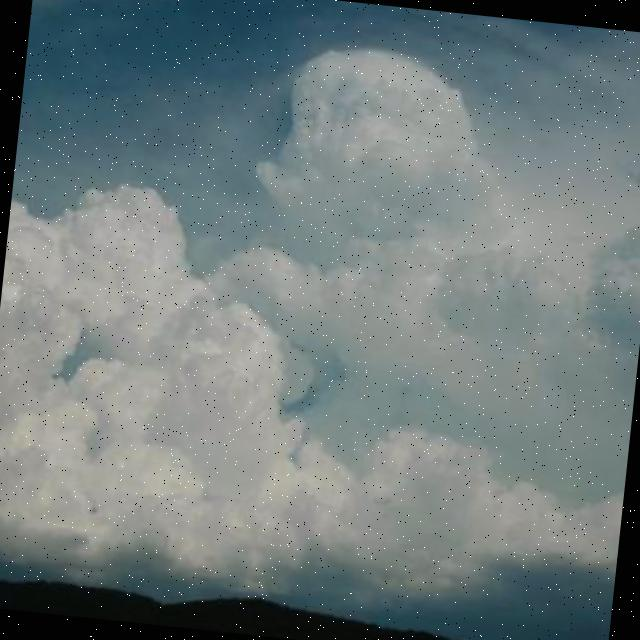Cb: (1, 2, 640, 614)
